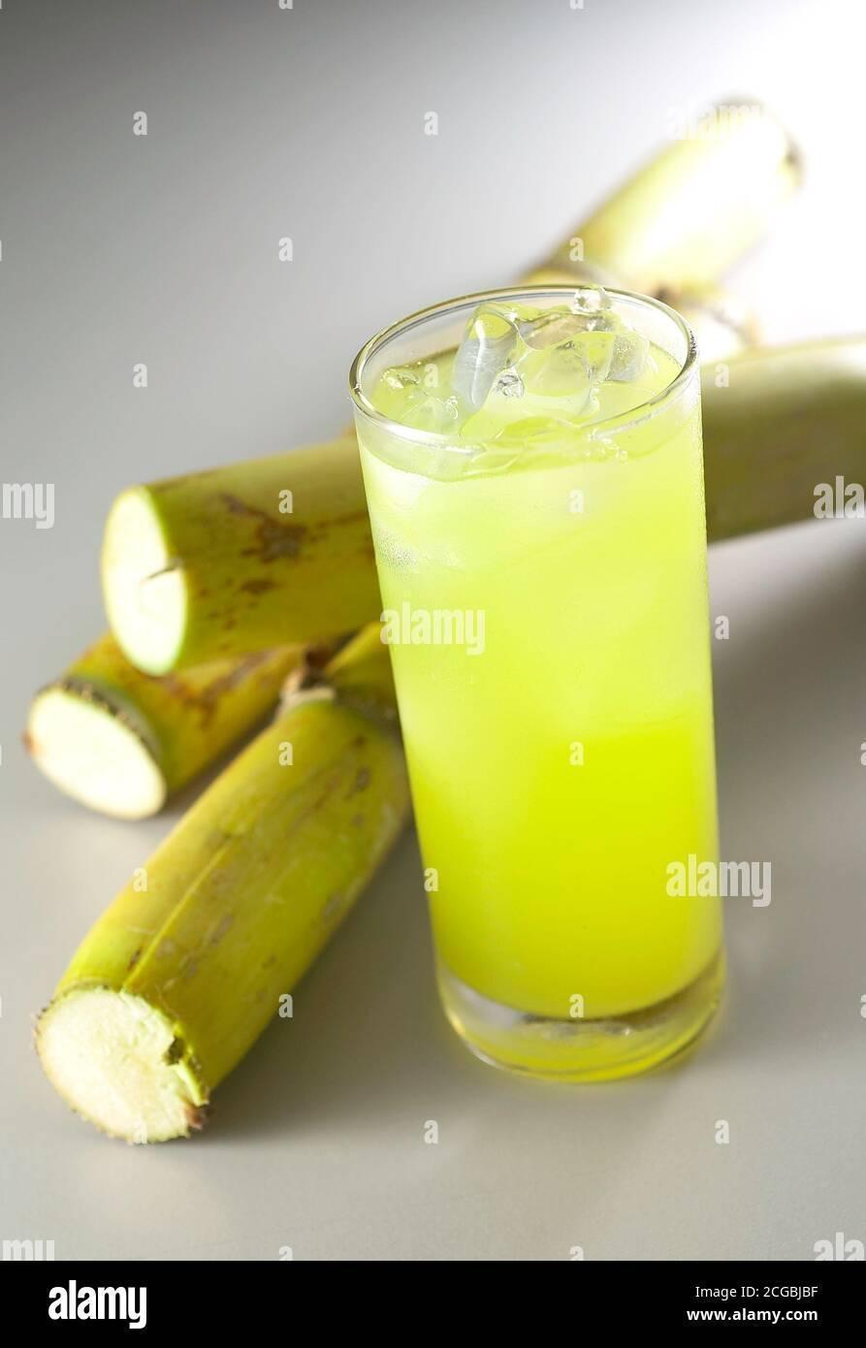glass-normal: (345, 282, 730, 1086)
